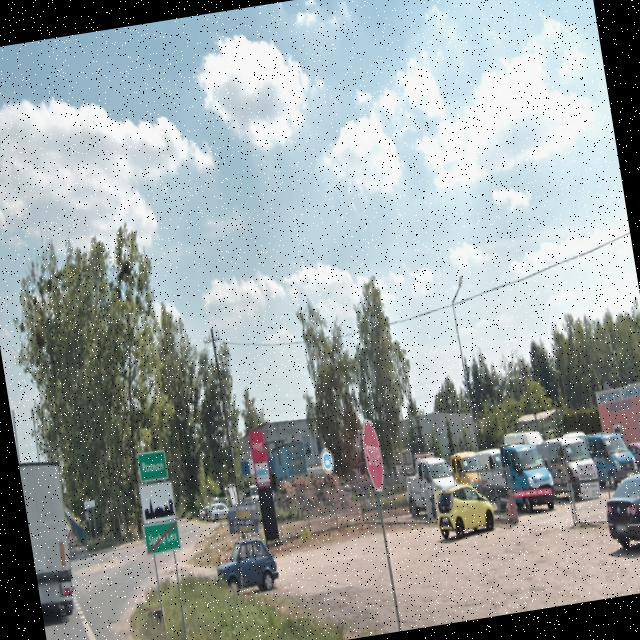Stop: (358, 416, 388, 494)
